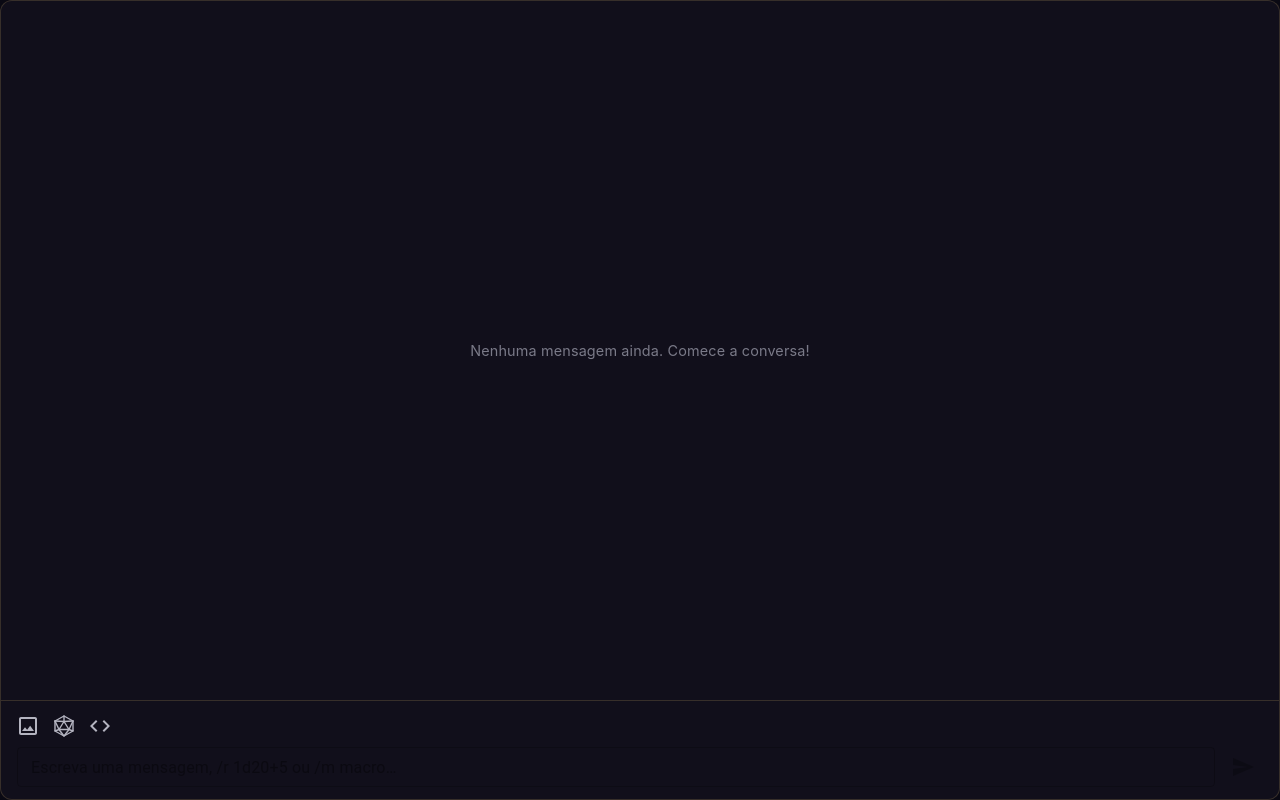
Test: ChatSala — macros › teste com erro mostra a mensagem do Lua
Click the button named "Macros".
click(100, 726)  # box [83,709,117,743]
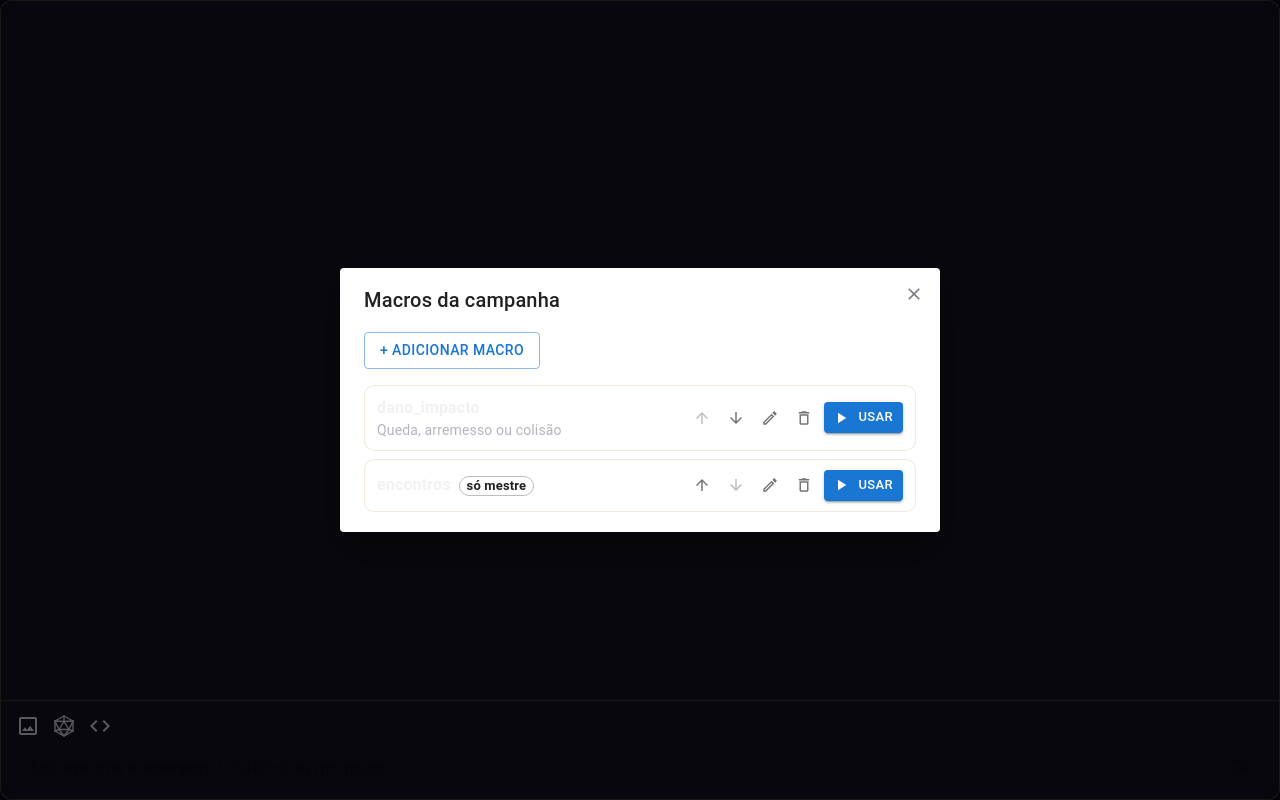
Click the button named "Editar dano_impacto".
click(770, 418)  # box [756,404,784,432]
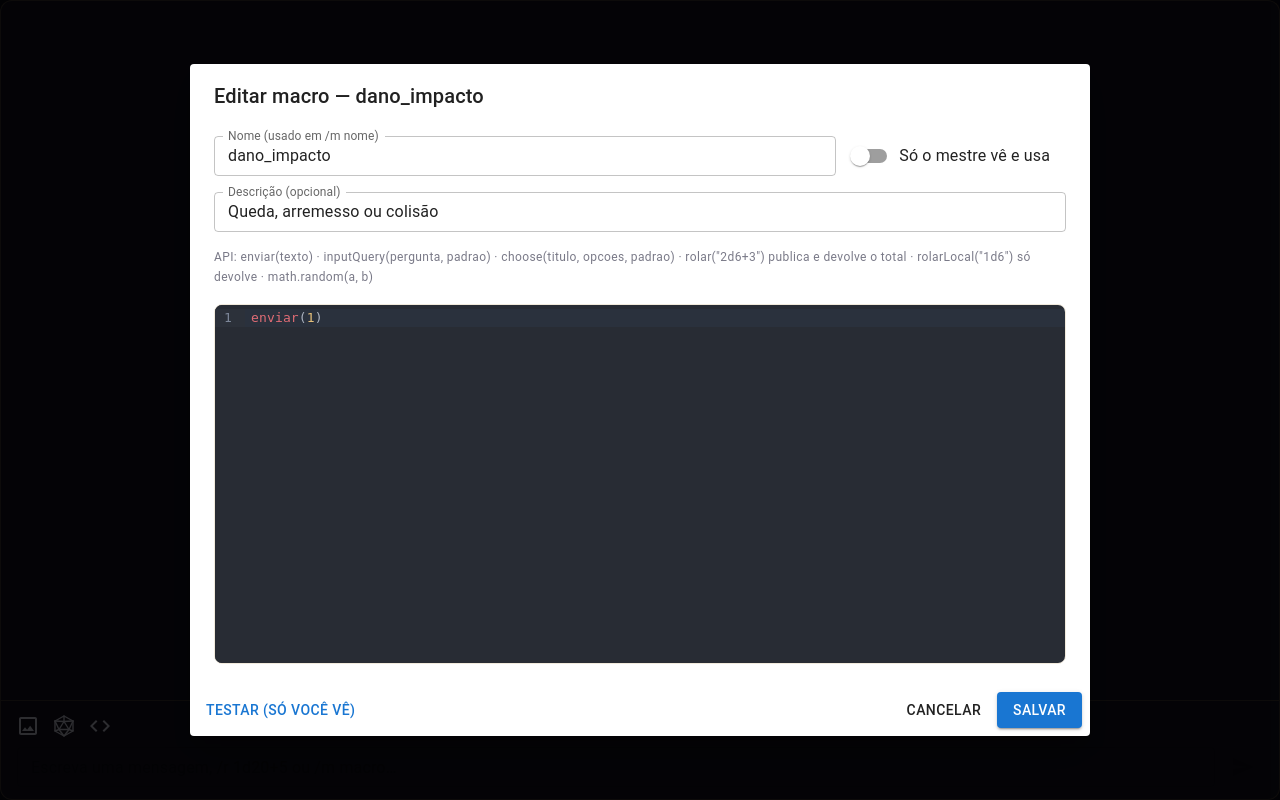
Click the button "Testar (só você vê)".
click(281, 710)  # box [198,692,363,728]
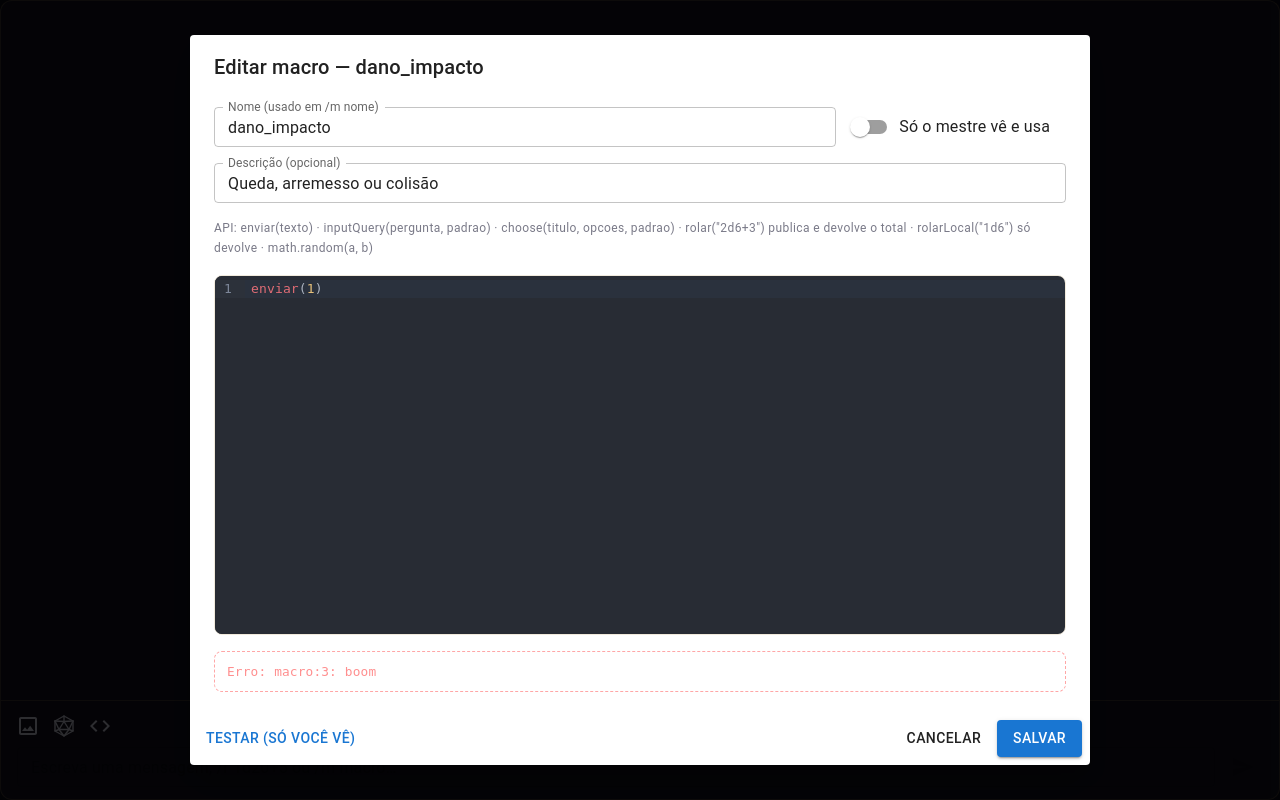
Expected: the message named "prévia" reads "Erro: macro:3: boom", [227,664,376,679]
